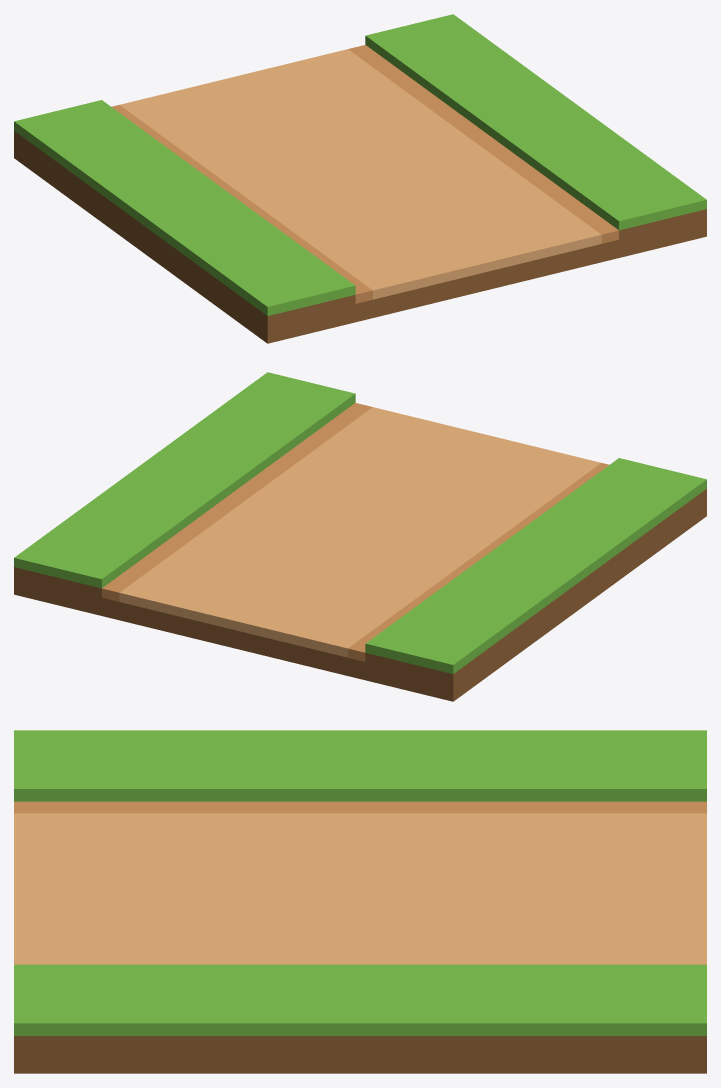
Rendered from path_straight.glb.
3 renders of one model, top to bottom at view 1: azimuth 30°, elevation 25°; view 2: azimuth 150°, elevation 25°; view 3: azimuth 270°, elevation 25°, orthographic. The views are drawn at different scales.
Parts seen in each view (by area): view 1: model_0; view 2: model_0; view 3: model_0.
Part boxes in pixels (<box>): model_0: <box>14,14,706,343</box>; model_0: <box>14,372,706,701</box>; model_0: <box>14,730,706,1073</box>.
Size of the model in its own units: 2 by 0.16 by 2.
